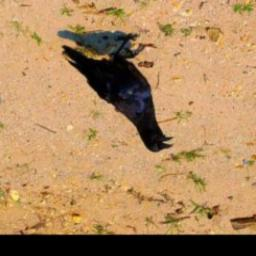Crow: (63, 34, 174, 154)
